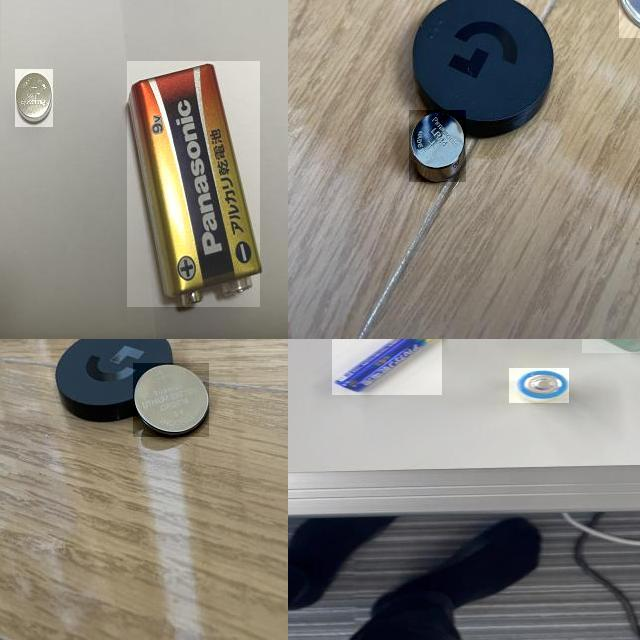9V: (127, 62, 260, 308)
